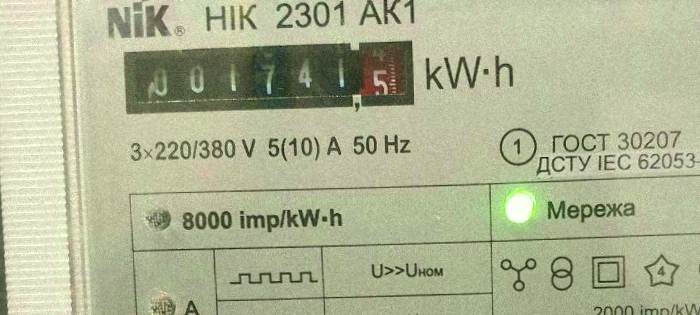0: (187, 60, 206, 95), (151, 64, 170, 98)
1: (223, 58, 240, 94), (332, 55, 348, 90)
4: (294, 54, 315, 90), (370, 45, 387, 63)
5: (370, 65, 389, 96)
7: (259, 60, 276, 95)
screen: (117, 33, 422, 120)
